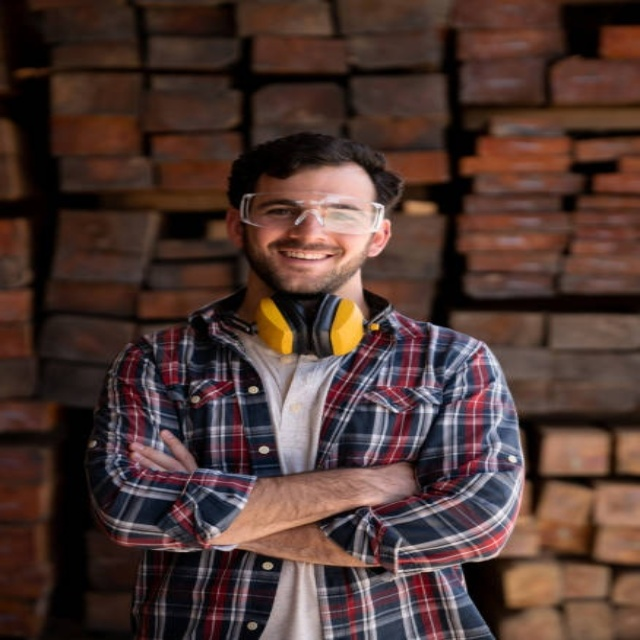Gafas: (239, 193, 387, 234)
Sin_guantes: (124, 429, 197, 472)
Sin_mascara: (270, 244, 343, 277)
